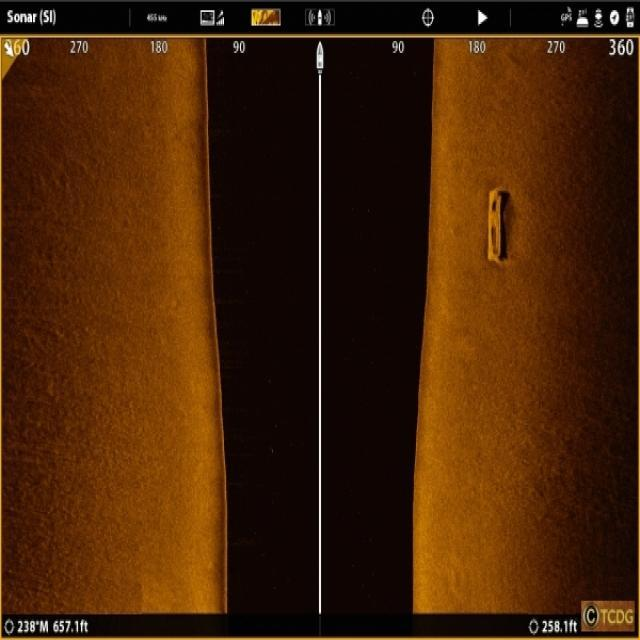shipwreck: (483, 182, 508, 262)
